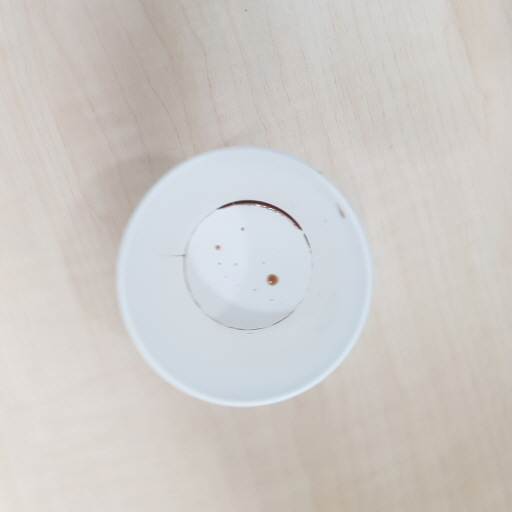Paper_1: (116, 146, 376, 411)
